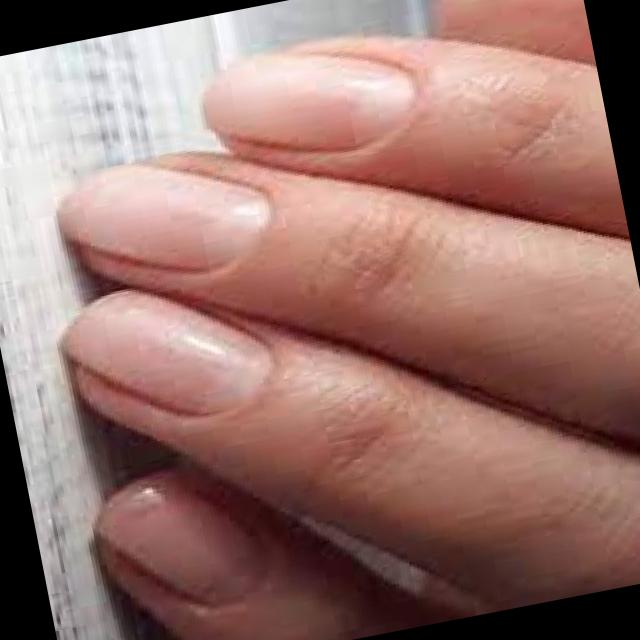Nail: (58, 291, 271, 416), (59, 163, 272, 270), (99, 468, 260, 609), (205, 54, 414, 149)
